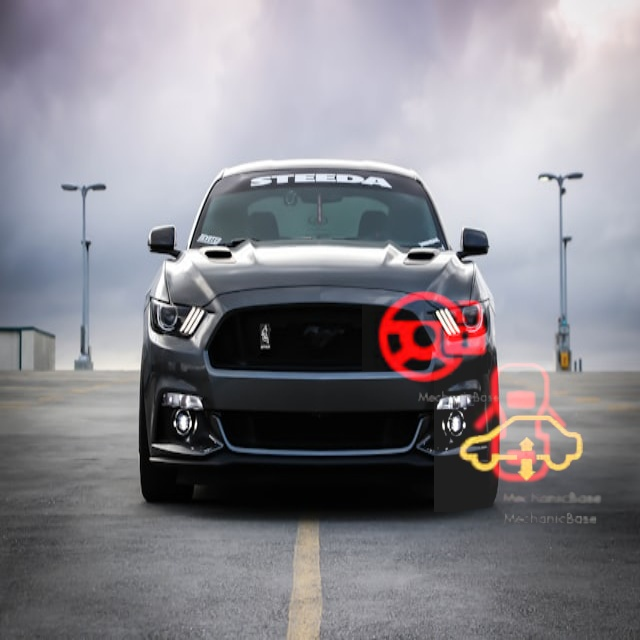symbol: (434, 338, 608, 512), (439, 368, 603, 532), (362, 266, 505, 409)
